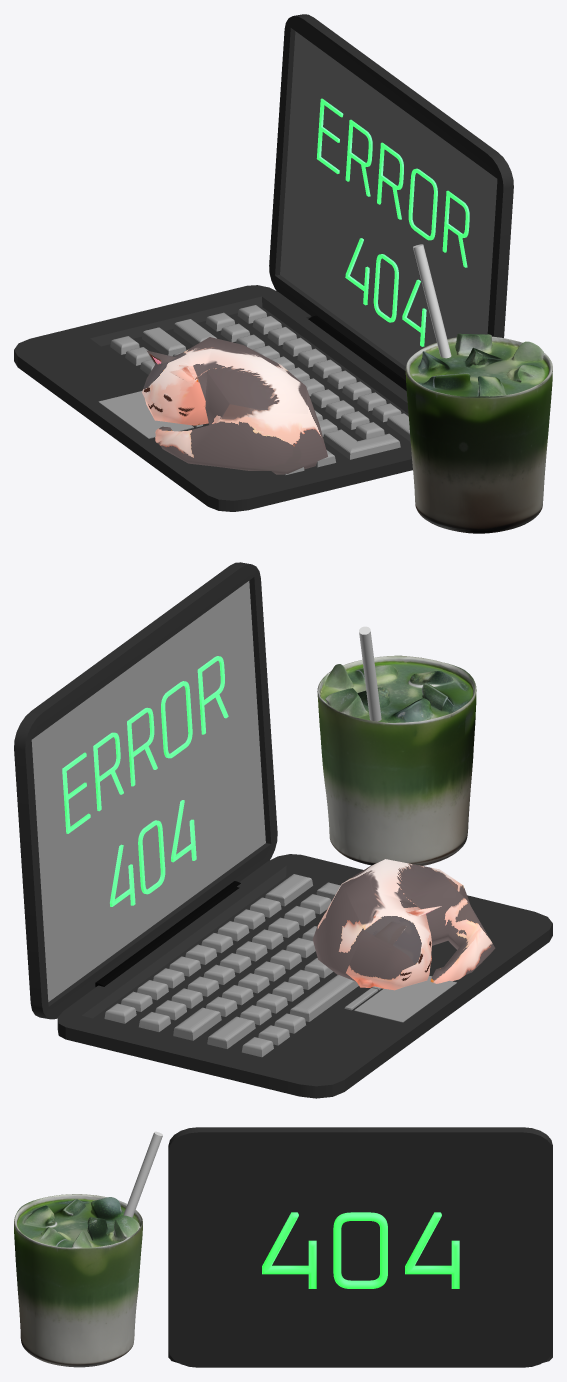
File: 3Dlaptop.glb
3 renders of one model, top to bottom at view 1: azimuth 30°, elevation 25°; view 2: azimuth 150°, elevation 25°; view 3: azimuth 270°, elevation 25°, orthographic. The views are drawn at different scales.
Visible parts, largest first — view 1: Empty, Cube.013, Cube, Cube.012, Cube.001, Text.001, Cube.010, Cube.009, Cylinder, Cube.011, Cube.005, Cube.006; view 2: Cube.013, Empty, Cube, Cube.012, Cube.001, Text.001, Cube.010, Cube.011, Cube.002, Cylinder, Cube.006, Cube.005 (+1 smaller); view 3: Cube.012, Empty, Text, Cylinder.
Part boxes in pixels (x1,y1,x2,y2): Empty: (142,333,552,533); Cube.013: (280,31,497,366); Cube: (14,285,412,511); Cube.012: (269,14,513,380); Cube.001: (110,305,401,475); Text.001: (316,98,469,346); Cube.010: (98,391,193,438); Cube.009: (323,429,400,459); Cylinder: (413,244,451,358); Cube.011: (308,315,406,390); Cube.005: (142,327,186,356); Cube.006: (173,319,216,345); Cube.013: (31,581,265,1001); Empty: (312,655,495,990); Cube: (57,854,552,1098); Cube.012: (14,562,277,1019); Cube.001: (104,894,333,1057); Text.001: (62,656,228,906); Cube.010: (354,975,456,1022); Cube.011: (95,881,240,986); Cube.002: (290,975,358,1021); Cylinder: (359,626,381,721); Cube.006: (173,1007,221,1040); Cube.005: (207,1016,255,1048); Cube.012: (168,1127,552,1367); Empty: (14,1194,142,1367); Text: (262,1212,459,1288); Cylinder: (123,1131,162,1217).
Size of the model in its own units: 5.08 by 4.74 by 9.17.
Materials: 8 (2 with a texture image).
